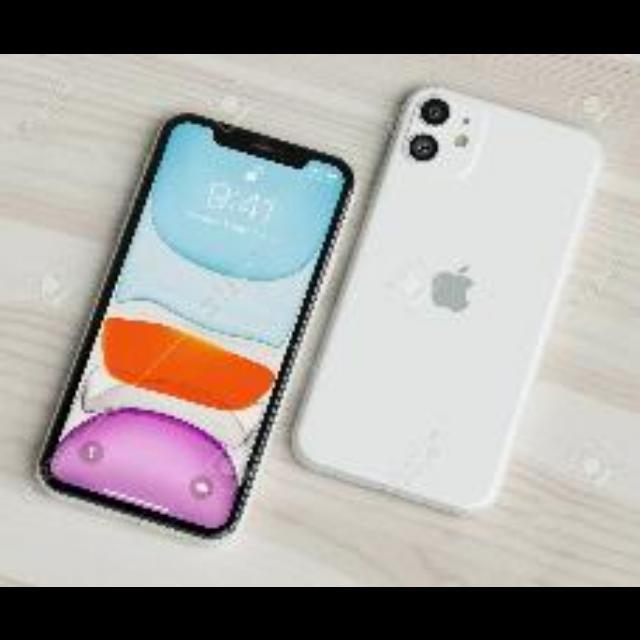phone: (47, 115, 359, 537)
